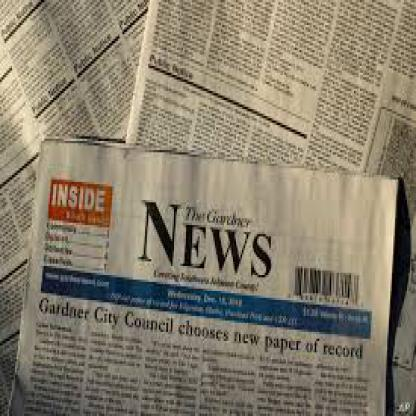paper: (124, 0, 415, 414), (6, 136, 398, 414), (0, 0, 148, 414)
